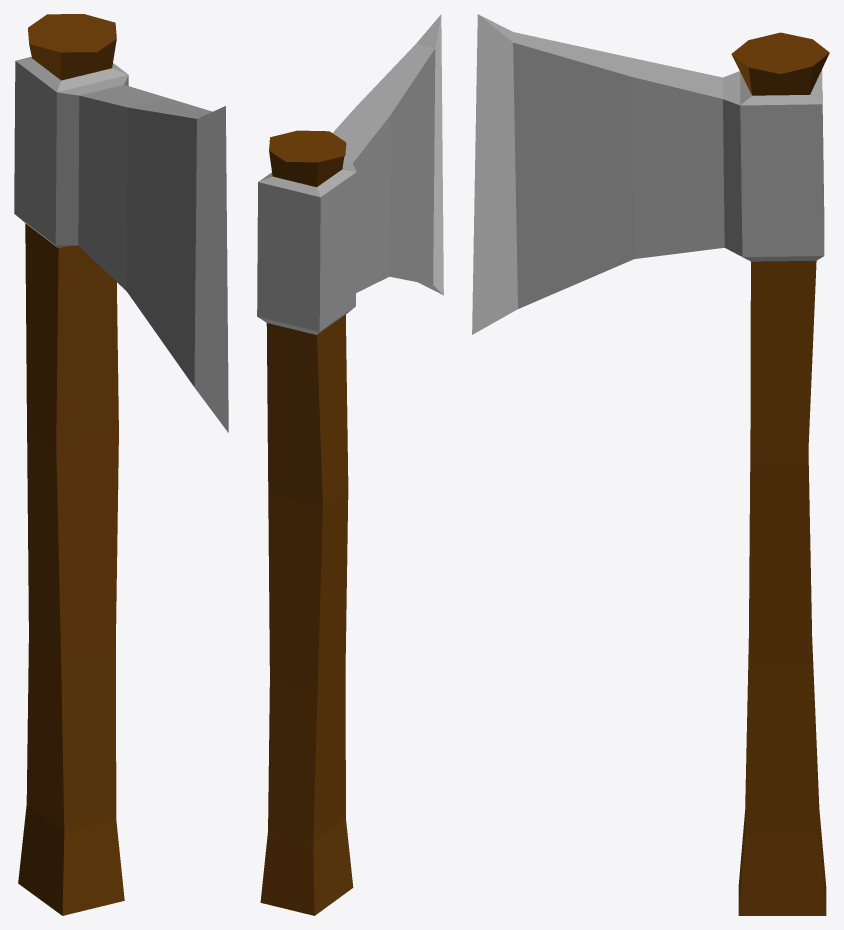
File: little_axe.glb
3 renders of one model, left to right at view 1: azimuth 30°, elevation 25°; view 2: azimuth 150°, elevation 25°; view 3: azimuth 270°, elevation 25°, orthographic. The views are drawn at different scales.
Parts seen in each view (by area): view 1: Axe_0; view 2: Axe_0; view 3: Axe_0.
Part boxes in pixels (bbox=[...]): Axe_0: bbox=[14, 14, 228, 915]; Axe_0: bbox=[257, 14, 443, 915]; Axe_0: bbox=[472, 14, 829, 915].
Bounding box in the file's own units: 0.4641 × 4.61 × 1.68.
